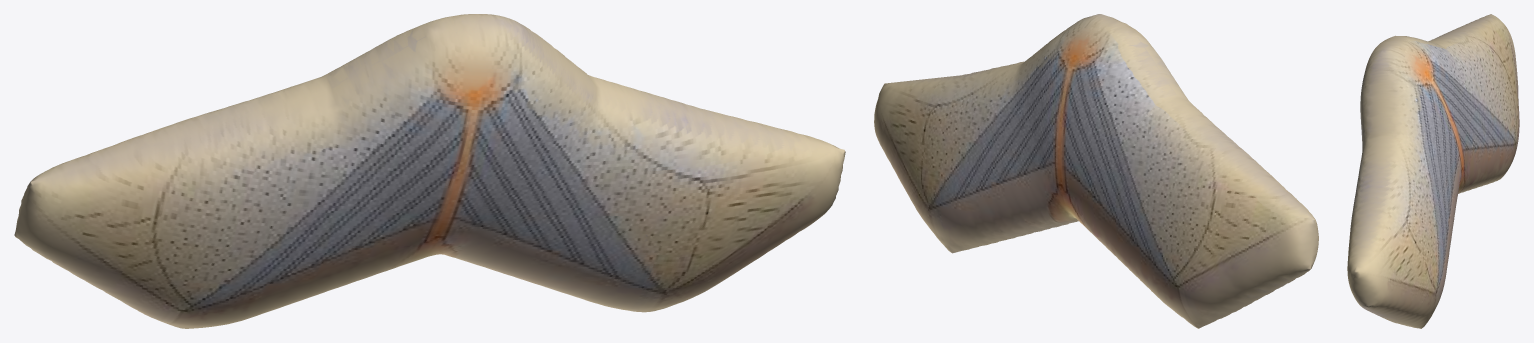
Rendered from volcano_strato.glb.
3 renders of one model, left to right at view 1: azimuth 30°, elevation 25°; view 2: azimuth 150°, elevation 25°; view 3: azimuth 270°, elevation 25°, orthographic. The views are drawn at different scales.
Visible parts, largest first — view 1: Object_5; view 2: Object_5; view 3: Object_5.
Boxes of the visible parts, left/top/right/bottom form: Object_5: left=14, top=14, right=845, bottom=328; Object_5: left=874, top=14, right=1318, bottom=328; Object_5: left=1347, top=14, right=1519, bottom=328.
Bounding box in the file's own units: 0.6625 × 0.3157 × 0.219.
Materials: 1 (1 with a texture image).
